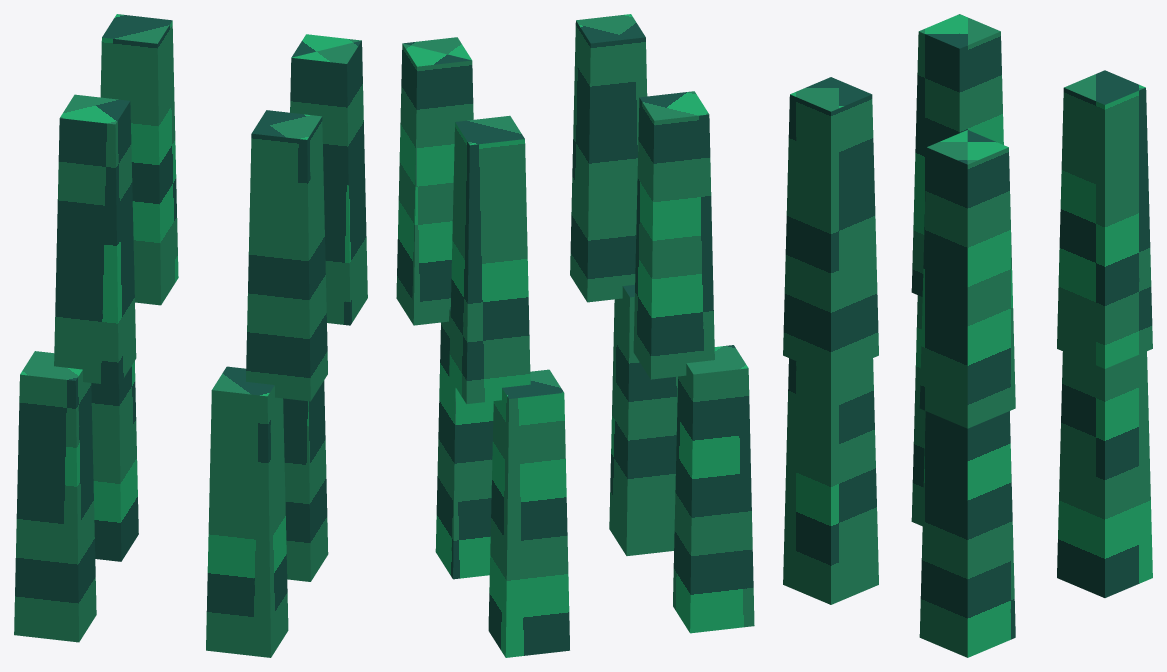
The model's file is r06_alga_pequena.glb.
3 renders of one model, left to right at view 1: azimuth 30°, elevation 25°; view 2: azimuth 150°, elevation 25°; view 3: azimuth 270°, elevation 25°, orthographic.
Visible parts, largest first — view 1: r06_alga_pequena; view 2: r06_alga_pequena; view 3: r06_alga_pequena.
Boxes of the visible parts, left/top/right/bottom form: r06_alga_pequena: left=14, top=14, right=367, bottom=657; r06_alga_pequena: left=396, top=14, right=754, bottom=657; r06_alga_pequena: left=783, top=14, right=1152, bottom=657.
Bounding box in the file's own units: 0.607 × 0.82 × 0.5391.
1 material, 1 textured.
